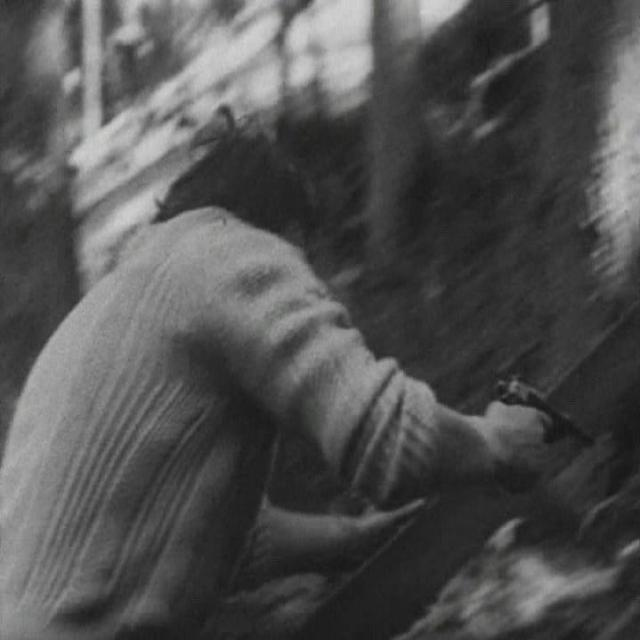gun-knife-thesis - v11 Yolov5 augmented: (477, 360, 612, 508)
